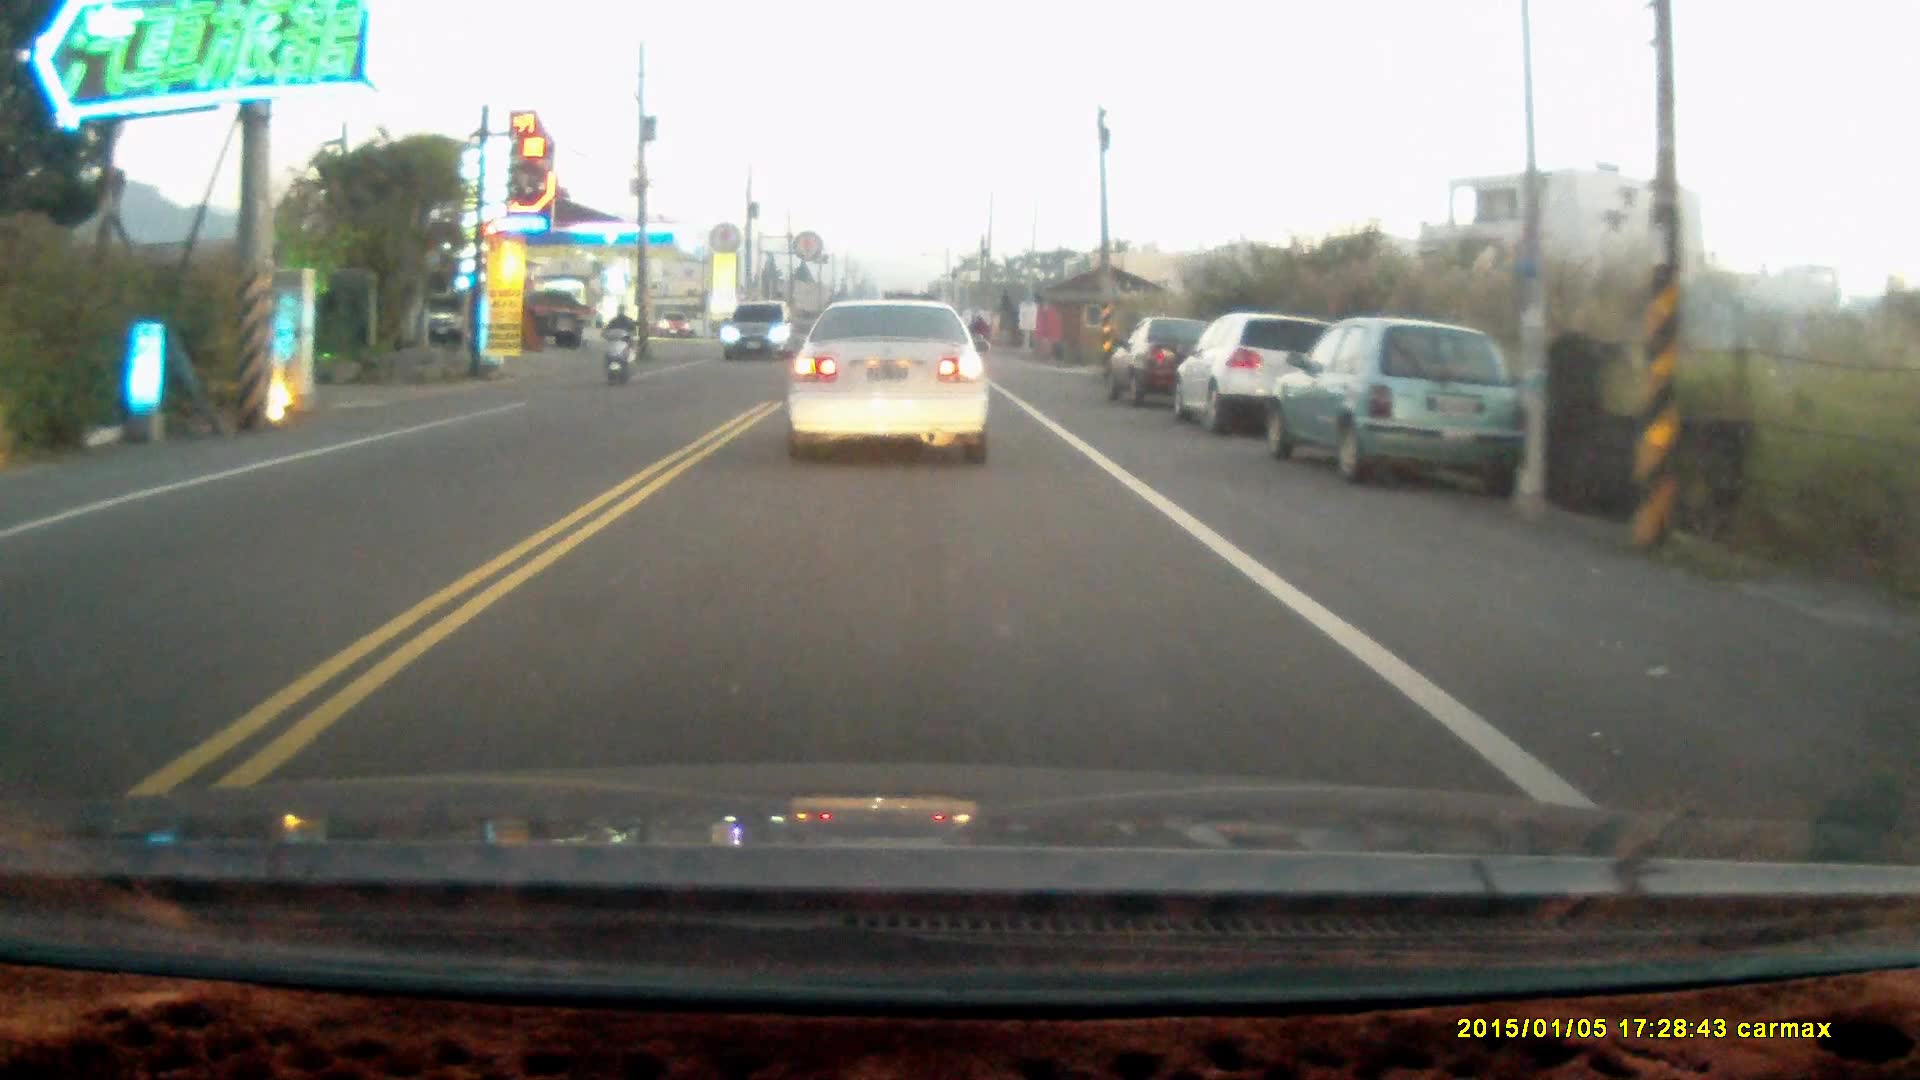rider: (600, 303, 638, 383)
vehicle: (1261, 317, 1527, 486), (787, 294, 998, 467), (1177, 313, 1340, 437), (1111, 315, 1210, 405), (726, 304, 799, 363)
